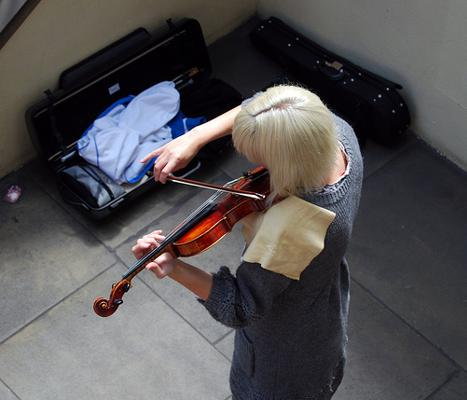person: (130, 87, 367, 399)
